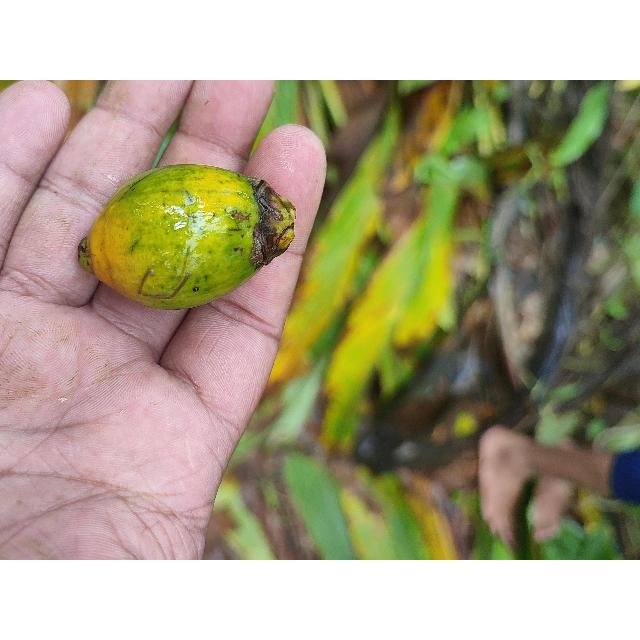damaged: (73, 164, 296, 312)
